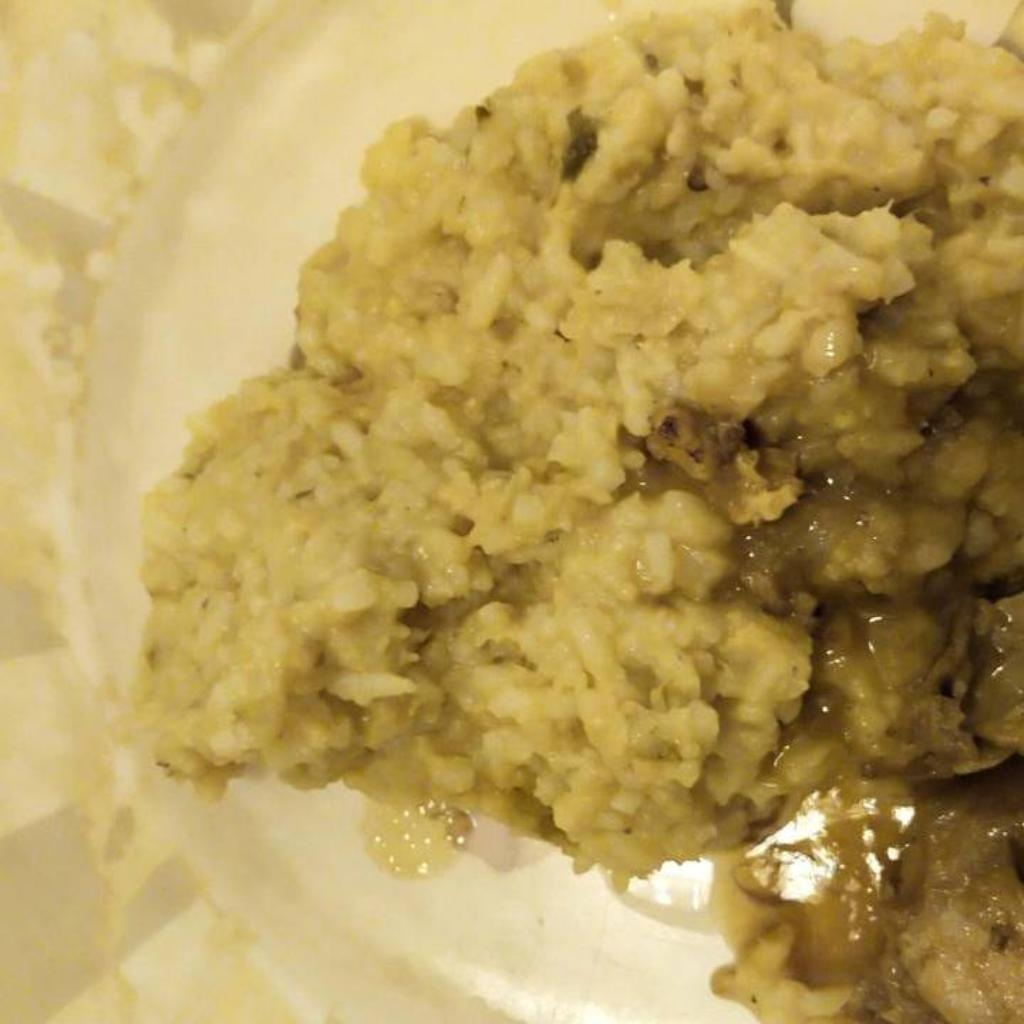khichuri: (122, 0, 1023, 1019)
